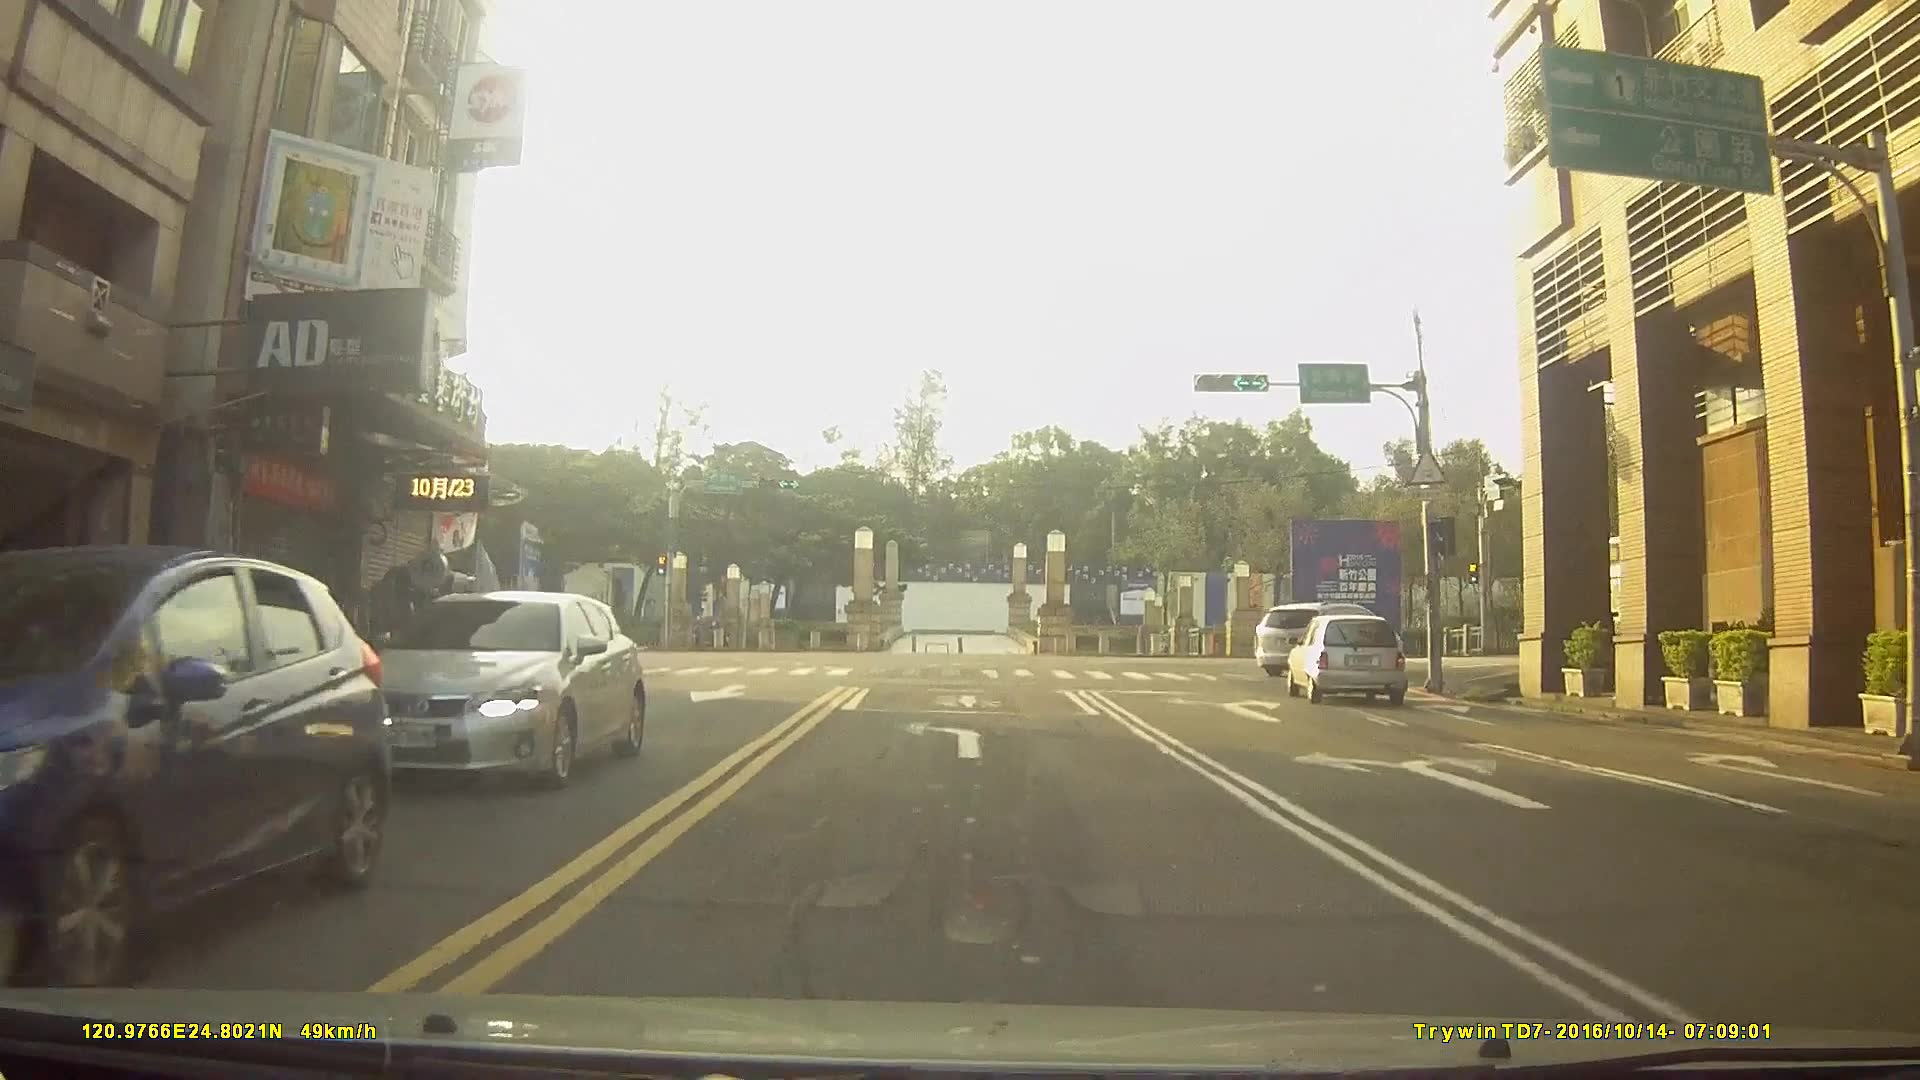vehicle: (0, 538, 388, 988), (357, 585, 644, 789), (1255, 597, 1400, 678), (1287, 611, 1408, 702)
